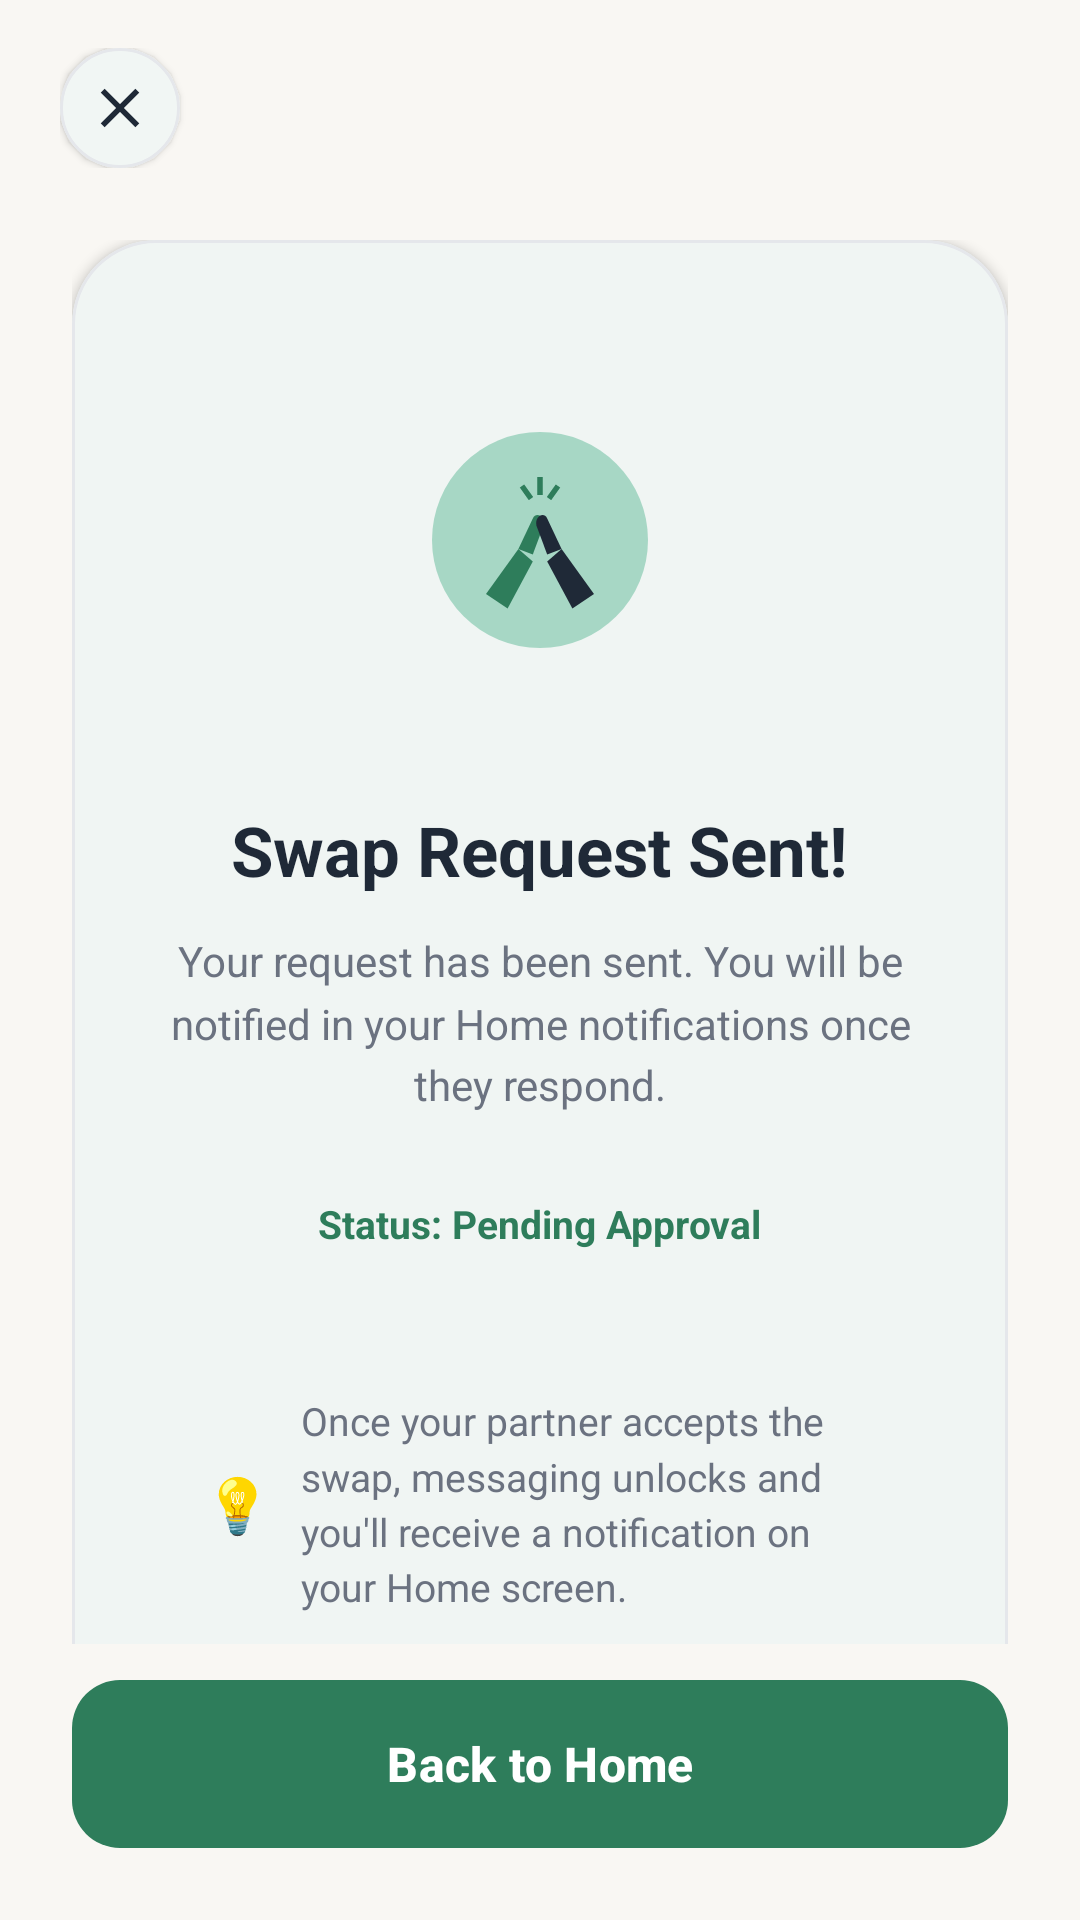

Icon bounding boxes for this 1080px×1920px phone screenshot, format {"x1": x1, "y1": y1, "x2": x2, "y2": y2}:
Success Illustration: {"x1": 432, "y1": 432, "x2": 648, "y2": 648}
